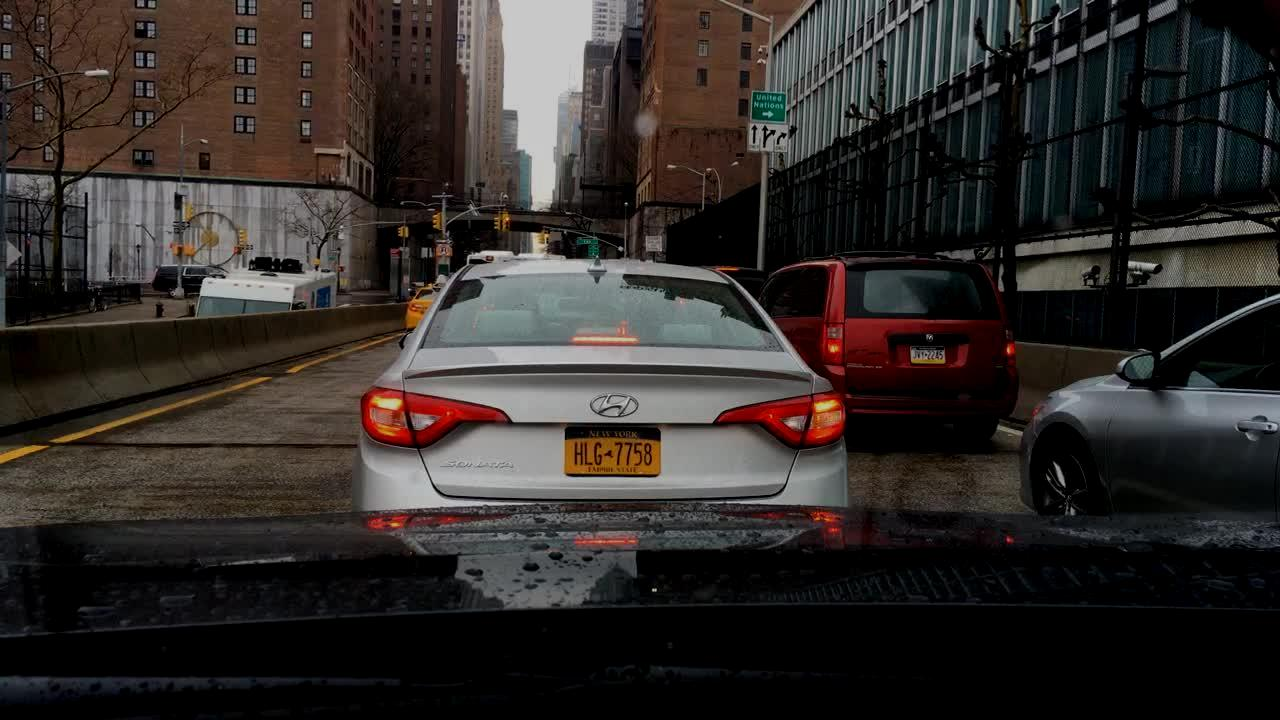Hyundai: (588, 387, 648, 425)
